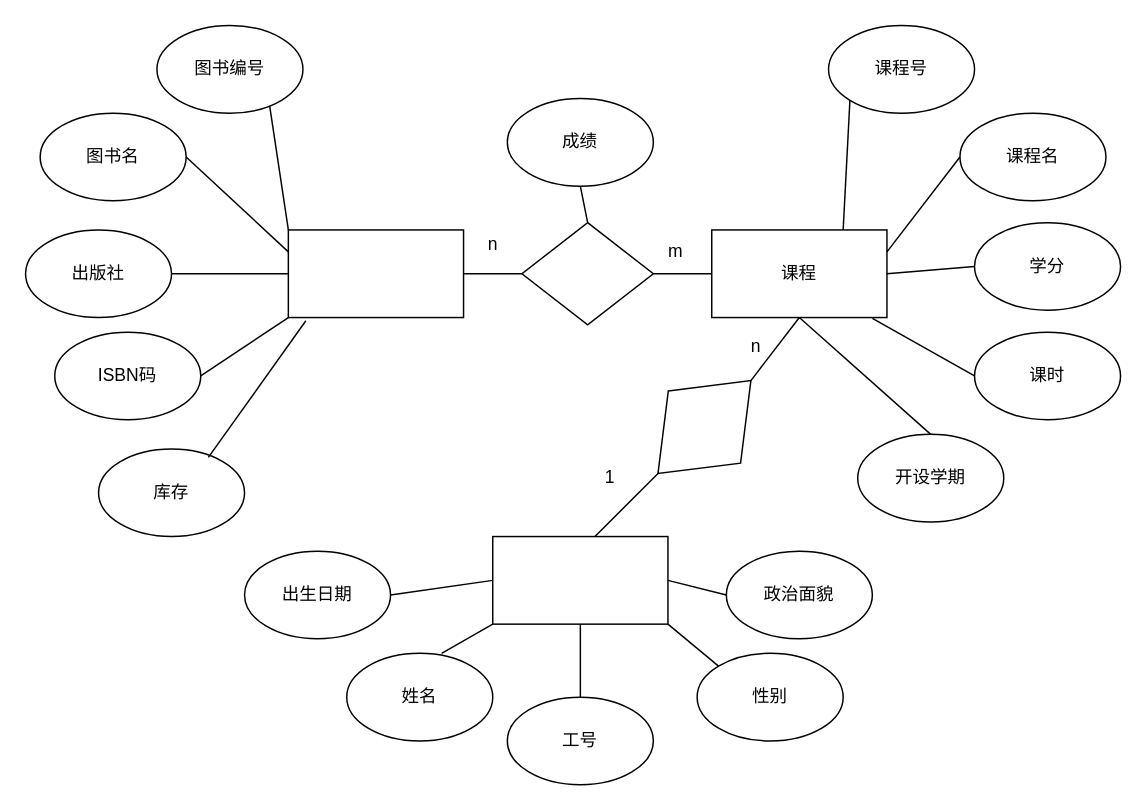
The diagram is 1146 pixels wide and 810 high, and some of its shapes have lost their labels. Each missing label, with the centre of its shape:
图书: point 375,273
教授: point 703,426
老师: point 579,579
选课: point 586,273
